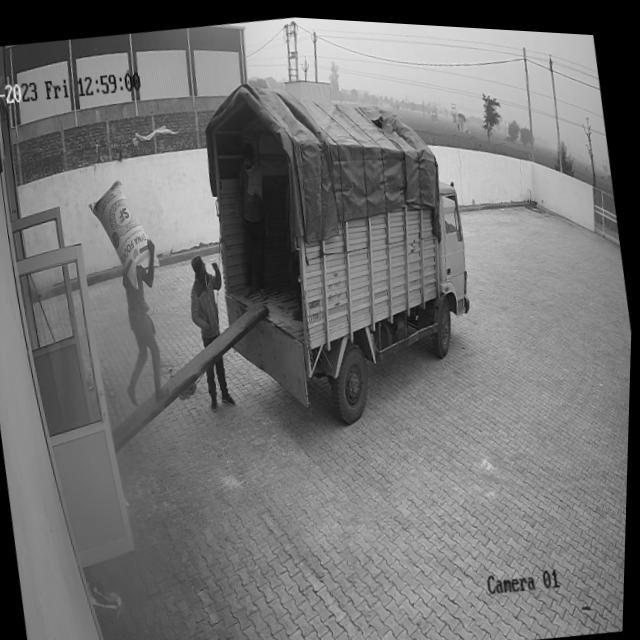sack: (84, 172, 166, 293)
